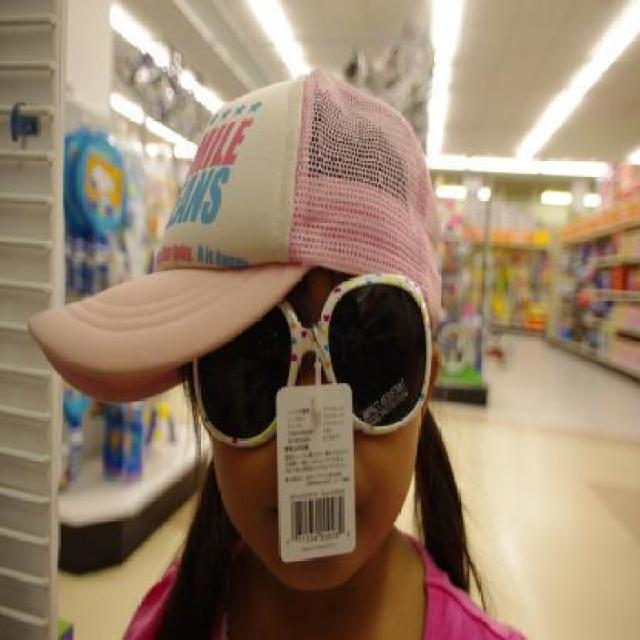glasses: (180, 268, 434, 454)
head_nohelmet: (164, 64, 456, 299)
